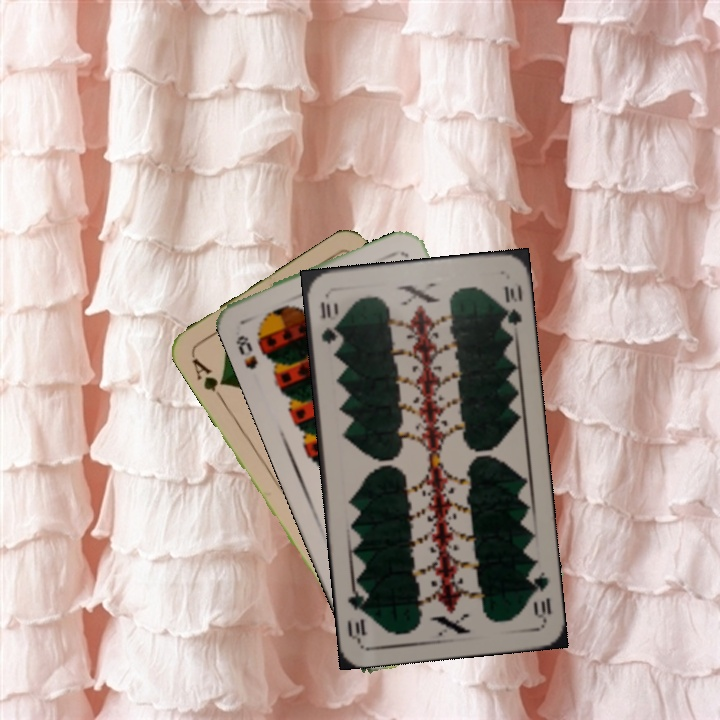G10: (524, 564, 554, 623), (317, 297, 341, 347)
GA: (187, 354, 229, 404)
S8: (232, 331, 260, 373)
